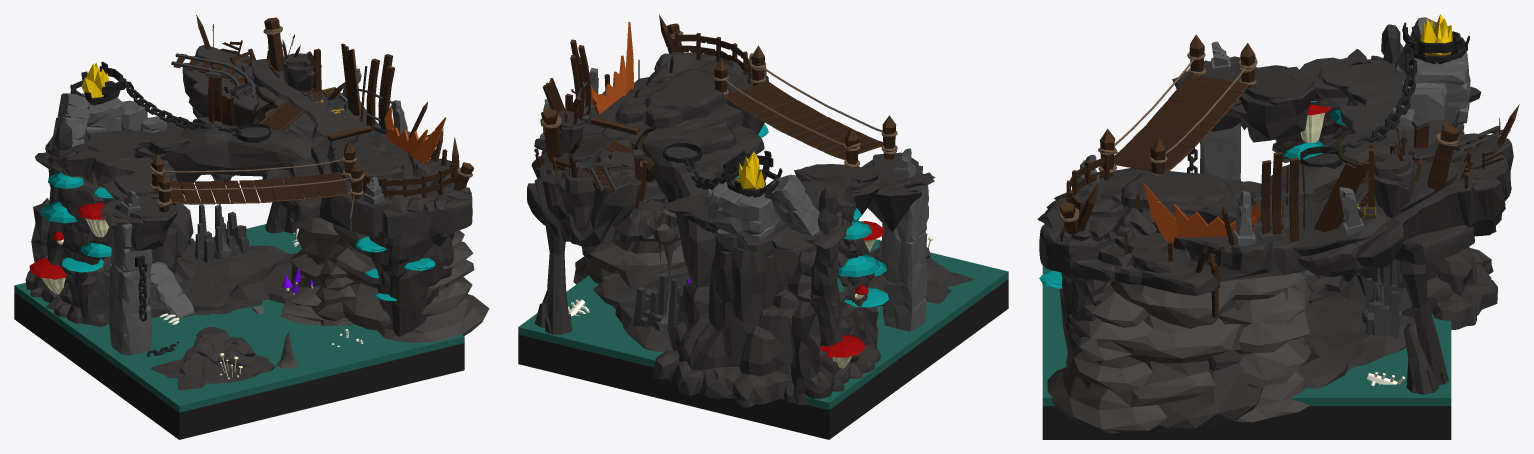
Rendered from Goblin_Lair.fbx.
The picture shows the model from 3 angles, left to right: view 1: azimuth 30°, elevation 25°; view 2: azimuth 150°, elevation 25°; view 3: azimuth 270°, elevation 25°; orthographic projection. The views are drawn at different scales.
Visible parts, largest first — view 1: Cube (1), Cube, Cave_Lair_Terrain_Stone_Rock_Arch_Large_01 (1), Cave_Lair_Cave_Stone_Rock_Speleothem_Large_01 (1), Cave_Lair_Cave_Stone_Rock_Bedrock_01, Cave_Lair_Cave_Stone_Rock_Bedrock_Open_02 (1), Cave_Lair_Wooden_Timber_Suspension_Bridge_01, Cave_Lair_Cave_Stone_Rock_Spire_03, Cave_Lair_Cave_Stone_Rock_Spire_05, Cave_Lair_Cave_Stone_Rock_Bedrock_Open_03, Cave_Lair_Cave_Stone_Block_Eroded_01 (2), Cave_Lair_Cave_Stone_Rock_Spire_01 (+29 smaller); view 2: Cave_Lair_Cave_Stone_Rock_Spire_02, Cube, Cave_Lair_Cave_Stone_Rock_Bedrock_01, Cube (1), Cave_Lair_Cave_Stone_Rock_Bedrock_Open_02 (1), Cave_Lair_Terrain_Stone_Rock_Arch_Large_01 (1), Cave_Lair_Cave_Stone_Rock_Spire_05, Cave_Lair_Wooden_Timber_Suspension_Bridge_01, Cave_Lair_Cave_Stone_Block_Eroded_01 (2), Cave_Lair_Cave_Stone_Rock_Bedrock_Open_03, Cave_Lair_Cave_Stone_Rock_Speleothem_Large_01 (1), Cave_Lair_Cave_Stone_Rock_Spire_07 (+20 smaller); view 3: Cave_Lair_Cave_Stone_Rock_Speleothem_Large_01 (1), Cave_Lair_Cave_Stone_Rock_Bedrock_01, Cave_Lair_Terrain_Stone_Rock_Arch_Large_01 (1), Cave_Lair_Cave_Stone_Rock_Bedrock_Open_02 (1), Cube, Cave_Lair_Wooden_Timber_Suspension_Bridge_01, Cube (1), Cave_Lair_Cave_Stone_Rock_Bedrock_Open_03, Cave_Lair_Cave_Stone_Rock_Spire_07, Cave_Lair_Cave_Stone_Rock_Hanging_Spike_01 (2), Cave_Lair_Cave_Stone_Rock_Spire_02, Cave_Lair_Wooden_Timber_Metal_Hull_Broken_Junk_01 (+23 smaller).
Part boxes in pixels (<box>): Cube (1): <box>14,224,464,412</box>; Cube: <box>14,292,464,439</box>; Cave_Lair_Terrain_Stone_Rock_Arch_Large_01 (1): <box>151,122,312,303</box>; Cave_Lair_Cave_Stone_Rock_Speleothem_Large_01 (1): <box>290,214,489,342</box>; Cave_Lair_Cave_Stone_Rock_Bedrock_01: <box>262,130,472,238</box>; Cave_Lair_Cave_Stone_Rock_Bedrock_Open_02 (1): <box>182,44,378,138</box>; Cave_Lair_Wooden_Timber_Suspension_Bridge_01: <box>149,141,364,212</box>; Cave_Lair_Cave_Stone_Rock_Spire_03: <box>369,226,454,336</box>; Cave_Lair_Cave_Stone_Rock_Spire_05: <box>25,122,111,326</box>; Cave_Lair_Cave_Stone_Rock_Bedrock_Open_03: <box>35,119,190,186</box>; Cave_Lair_Cave_Stone_Block_Eroded_01 (2): <box>109,224,152,355</box>; Cave_Lair_Cave_Stone_Rock_Spire_01: <box>150,326,275,390</box>; Cave_Lair_Cave_Stone_Rock_Spire_02: <box>653,236,862,407</box>; Cube: <box>518,279,1008,439</box>; Cave_Lair_Cave_Stone_Rock_Bedrock_01: <box>527,52,768,226</box>; Cube (1): <box>518,239,1008,409</box>; Cave_Lair_Cave_Stone_Rock_Bedrock_Open_02 (1): <box>531,132,666,247</box>; Cave_Lair_Terrain_Stone_Rock_Arch_Large_01 (1): <box>581,139,716,377</box>; Cave_Lair_Cave_Stone_Rock_Spire_05: <box>784,186,880,403</box>; Cave_Lair_Wooden_Timber_Suspension_Bridge_01: <box>713,45,897,167</box>; Cave_Lair_Cave_Stone_Block_Eroded_01 (2): <box>882,185,928,331</box>; Cave_Lair_Cave_Stone_Rock_Bedrock_Open_03: <box>664,175,856,251</box>; Cave_Lair_Cave_Stone_Rock_Speleothem_Large_01 (1): <box>573,179,734,284</box>; Cave_Lair_Cave_Stone_Rock_Spire_07: <box>535,110,584,334</box>; Cave_Lair_Cave_Stone_Rock_Speleothem_Large_01 (1): <box>1047,271,1311,433</box>; Cave_Lair_Cave_Stone_Rock_Bedrock_01: <box>1039,168,1474,295</box>; Cave_Lair_Terrain_Stone_Rock_Arch_Large_01 (1): <box>1158,131,1481,430</box>; Cave_Lair_Cave_Stone_Rock_Bedrock_Open_02 (1): <box>1283,133,1513,277</box>; Cube: <box>1042,406,1451,439</box>; Cave_Lair_Wooden_Timber_Suspension_Bridge_01: <box>1098,34,1257,176</box>; Cube (1): <box>1042,265,1451,405</box>; Cave_Lair_Cave_Stone_Rock_Bedrock_Open_03: <box>1290,49,1481,147</box>; Cave_Lair_Cave_Stone_Rock_Spire_07: <box>1366,153,1448,394</box>; Cave_Lair_Cave_Stone_Rock_Hanging_Spike_01 (2): <box>1232,65,1316,142</box>; Cave_Lair_Cave_Stone_Rock_Spire_02: <box>1304,123,1497,329</box>; Cave_Lair_Wooden_Timber_Metal_Hull_Broken_Junk_01: <box>1252,152,1313,242</box>.
Bounding box in the file's own units: 26.66 × 17.74 × 25.97.
